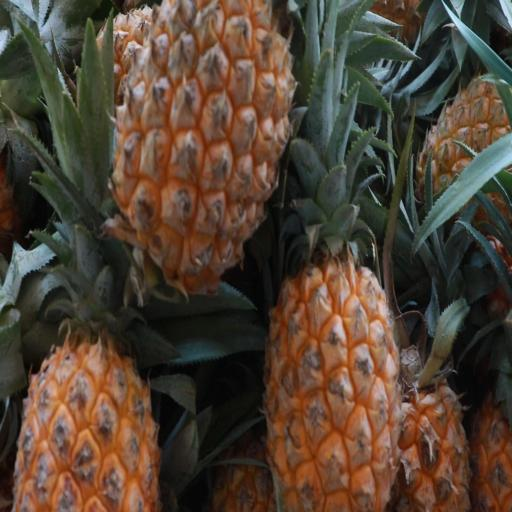Pineapple - v8 v1: (102, 0, 298, 310), (260, 151, 406, 512), (8, 275, 166, 512), (378, 313, 475, 512)
